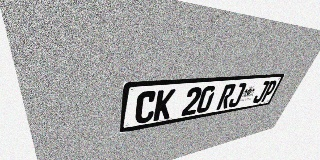0: (195, 85, 217, 114)
2: (181, 86, 203, 116)
C: (134, 90, 158, 125)
J: (227, 83, 247, 108), (251, 81, 270, 104)
K: (153, 89, 176, 121)
P: (260, 80, 278, 102)
R: (216, 84, 237, 110)
